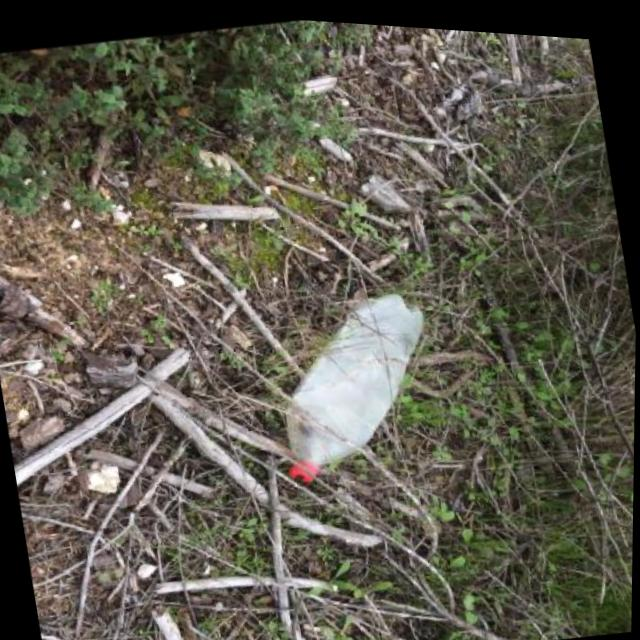plastic: (259, 276, 454, 493)
